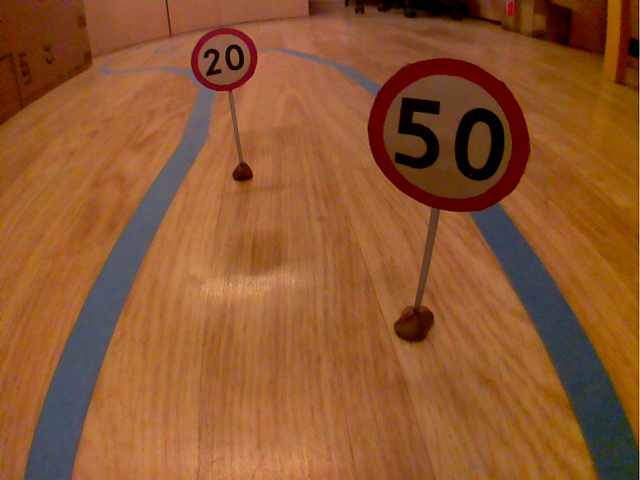Ograniczenie 20: (187, 25, 261, 95)
Ograniczenie 50: (360, 51, 537, 218)
